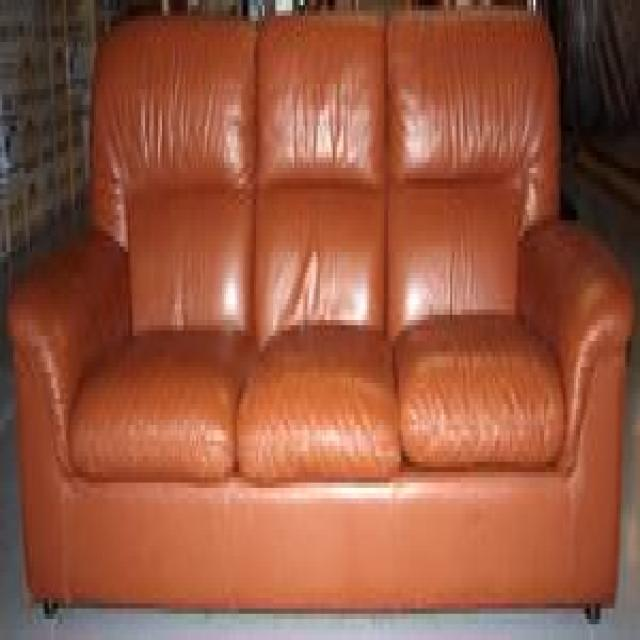sofa: (6, 14, 634, 628)
